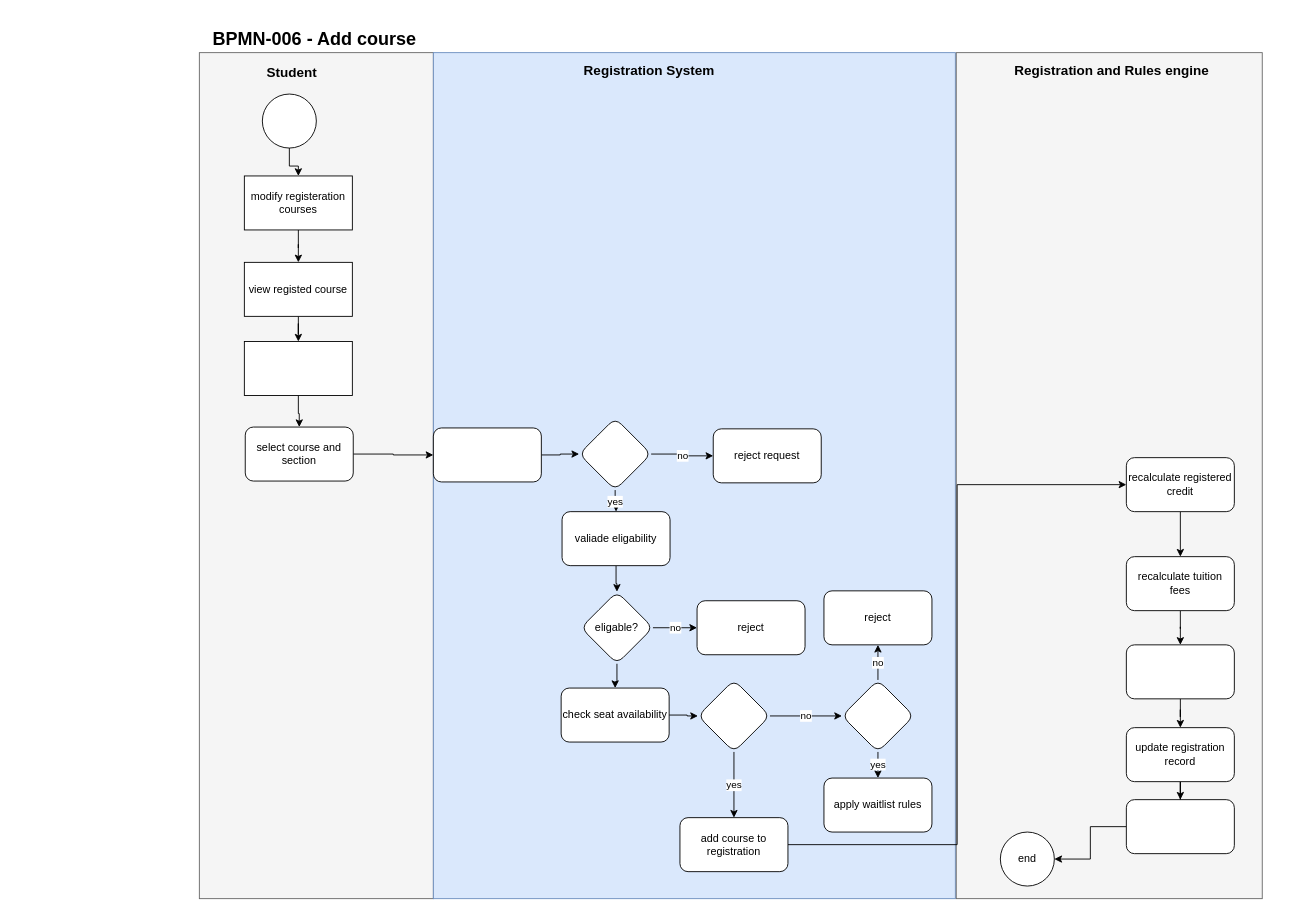
The diagram is 1307 pixels wide and 914 high, and some of its shapes have lost their labels. Here are the shapes that lost their labels. From the top down, the box of each, then its label:
(261, 93, 316, 148): start
(243, 341, 352, 396): select requested action
(432, 427, 541, 482): validate add period
(578, 417, 651, 490): period open?
(1125, 644, 1234, 699): validate financial holds
(697, 679, 770, 752): available
(841, 679, 914, 752): waitlist available
(1125, 799, 1234, 854): create audit log
